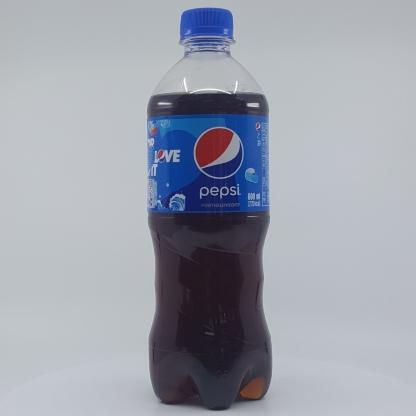------600ML: (146, 8, 272, 411)
